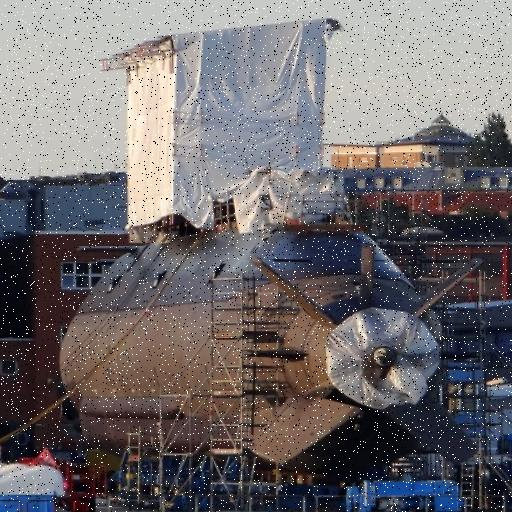submarine: (28, 23, 488, 460)
